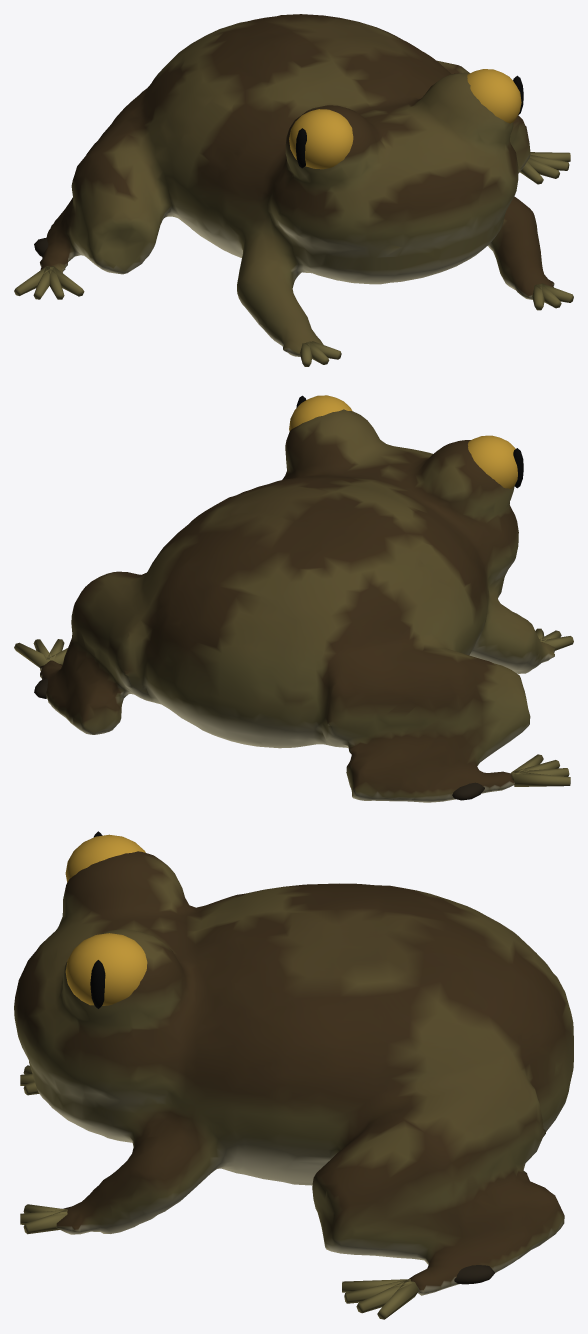
The model's file is EopelobatesWagneri.fbx.
3 views of the same model, one above another, from view 1: azimuth 30°, elevation 25°; view 2: azimuth 150°, elevation 25°; view 3: azimuth 270°, elevation 25° (orthographic). The views are drawn at different scales.
Visible parts, largest first — view 1: EopelobatesWagneri; view 2: EopelobatesWagneri; view 3: EopelobatesWagneri.
Boxes of the visible parts, x1,y1,x2,y2 form: EopelobatesWagneri: [14, 14, 573, 366]; EopelobatesWagneri: [14, 395, 573, 802]; EopelobatesWagneri: [14, 831, 573, 1319].
Bounding box in the file's own units: 0.5743 × 0.2211 × 0.4091.
